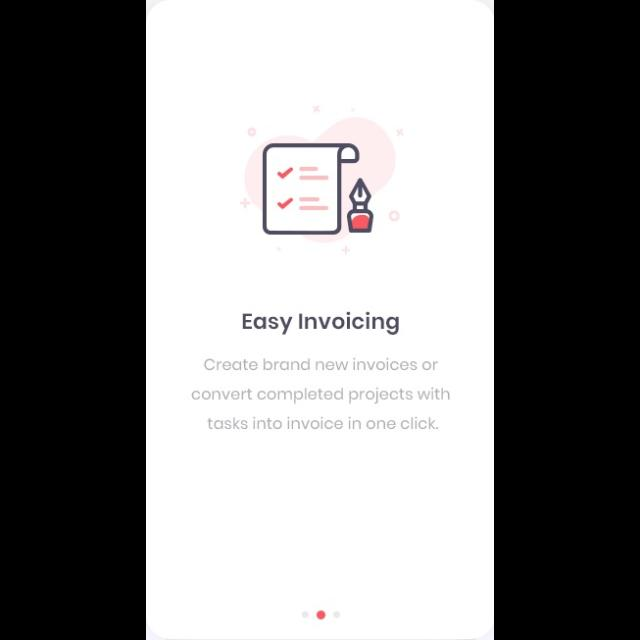image: (241, 105, 405, 255)
pageindicator: (302, 610, 342, 620)
text: (193, 358, 452, 430), (244, 311, 401, 335)
